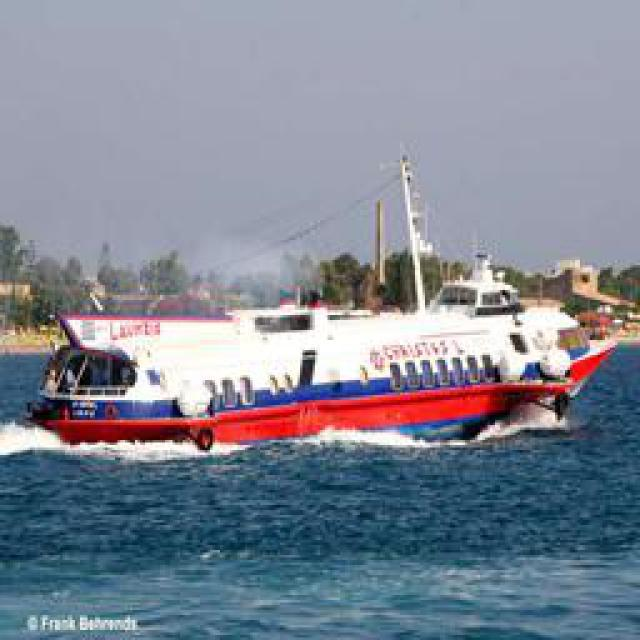Ship: (34, 151, 617, 454)
